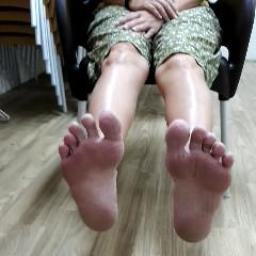Plantar View -Both Feet-: (38, 100, 248, 251)
